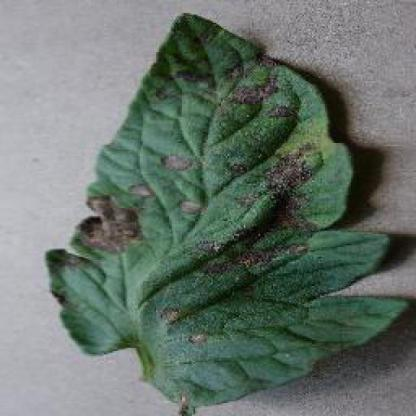Tomato_Blight: (45, 14, 407, 403)
